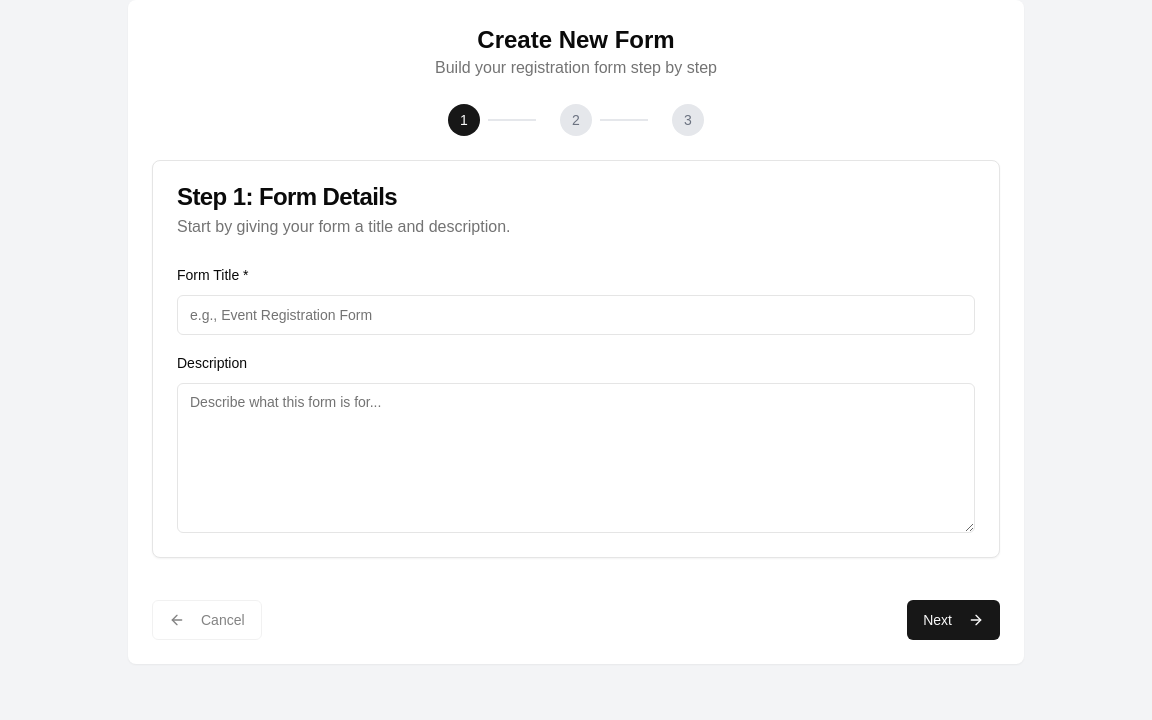
Test: SimplifiedFormBuilder › Form Validation › shows validation error for empty title
Click the button "Next" at (954, 620), box [907,600,1000,640]
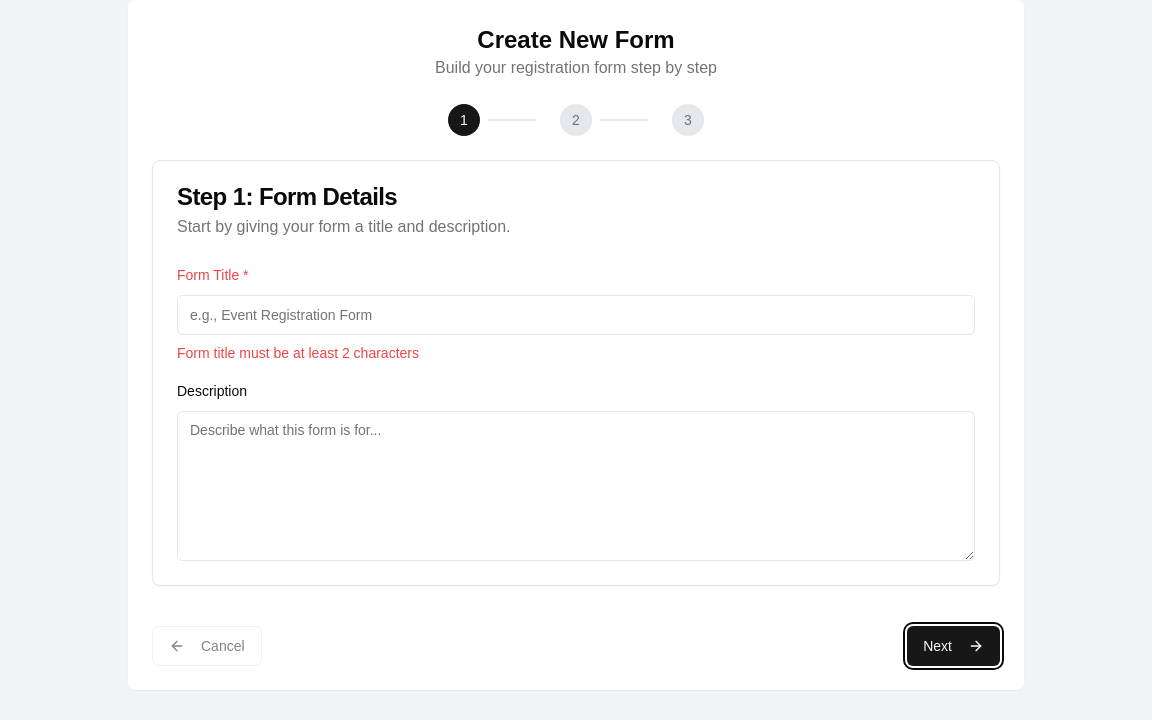
Check: the text "Form title must be at least 2 characters" is shown, box [177,345,419,361]
